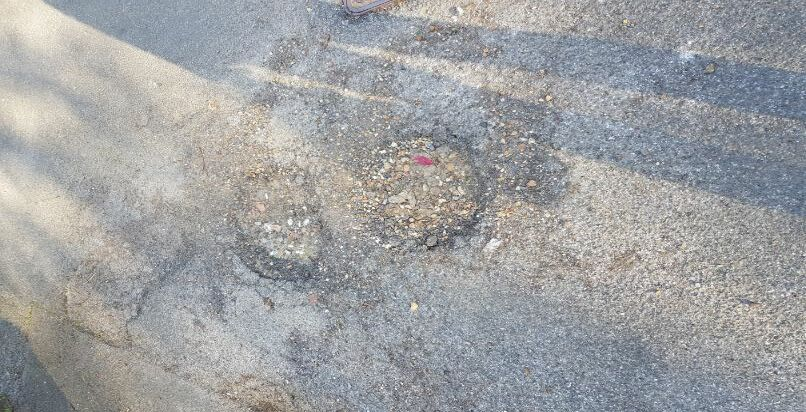pothole: (356, 129, 492, 252), (223, 157, 332, 290)
